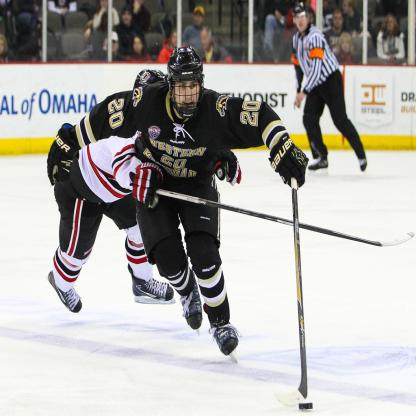Helmet: (165, 44, 206, 110), (295, 1, 305, 18)
